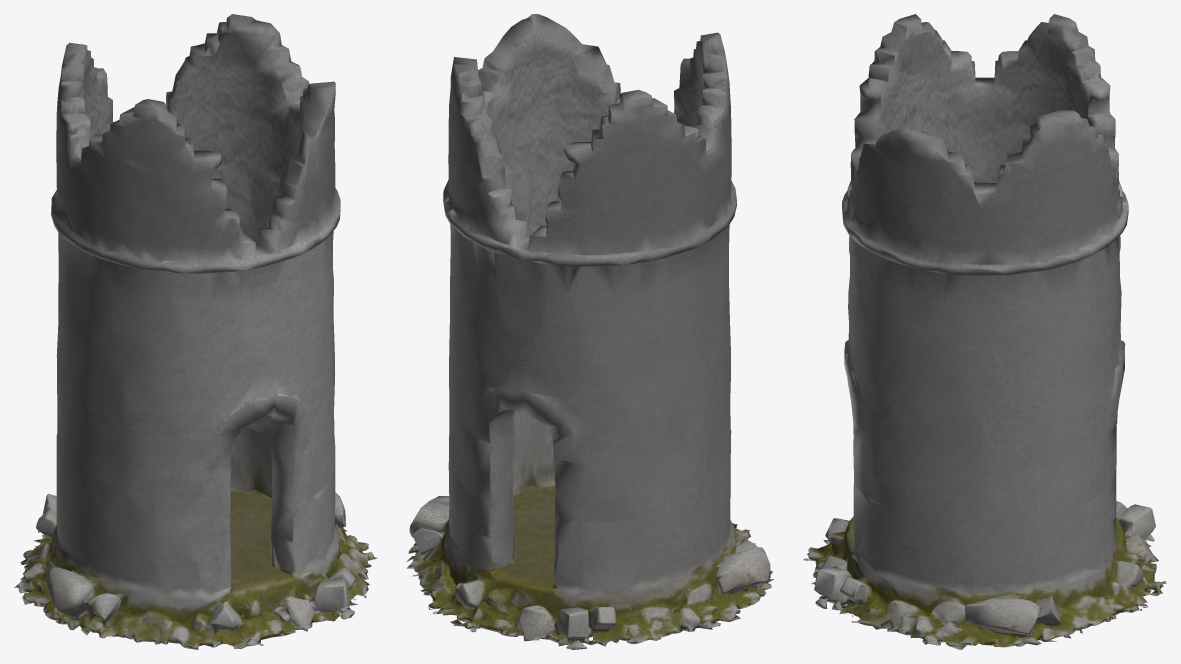
The model's file is prp_lm_ruin_tower.glb.
The picture shows the model from 3 angles, left to right: view 1: azimuth 30°, elevation 25°; view 2: azimuth 150°, elevation 25°; view 3: azimuth 270°, elevation 25°; orthographic projection. The views are drawn at different scales.
Visible parts, largest first — view 1: prp_lm_ruin_tower; view 2: prp_lm_ruin_tower; view 3: prp_lm_ruin_tower.
Part boxes in pixels (bbox=[...]): prp_lm_ruin_tower: bbox=[14, 14, 377, 649]; prp_lm_ruin_tower: bbox=[406, 14, 774, 649]; prp_lm_ruin_tower: bbox=[803, 14, 1166, 649].
Size of the model in its own units: 15.51 by 24 by 15.4.
1 material, 1 textured.
